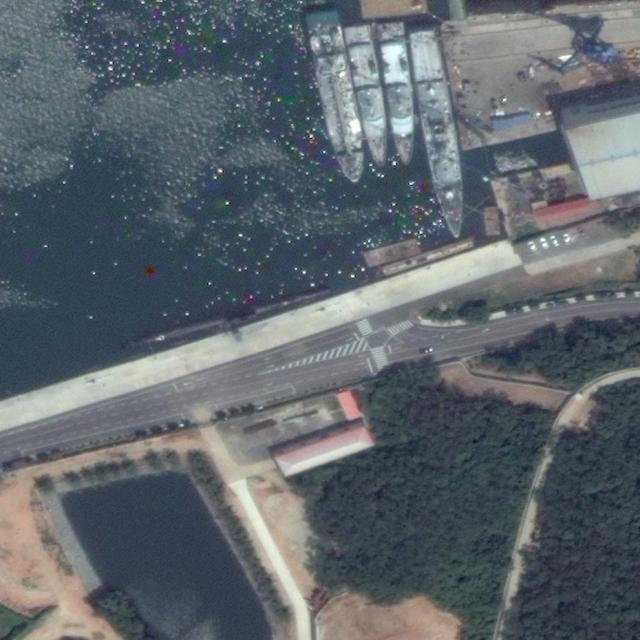Other Warship: (404, 26, 476, 242), (302, 8, 371, 187), (343, 23, 398, 171), (375, 21, 423, 169)
Submarine: (120, 281, 335, 358)
